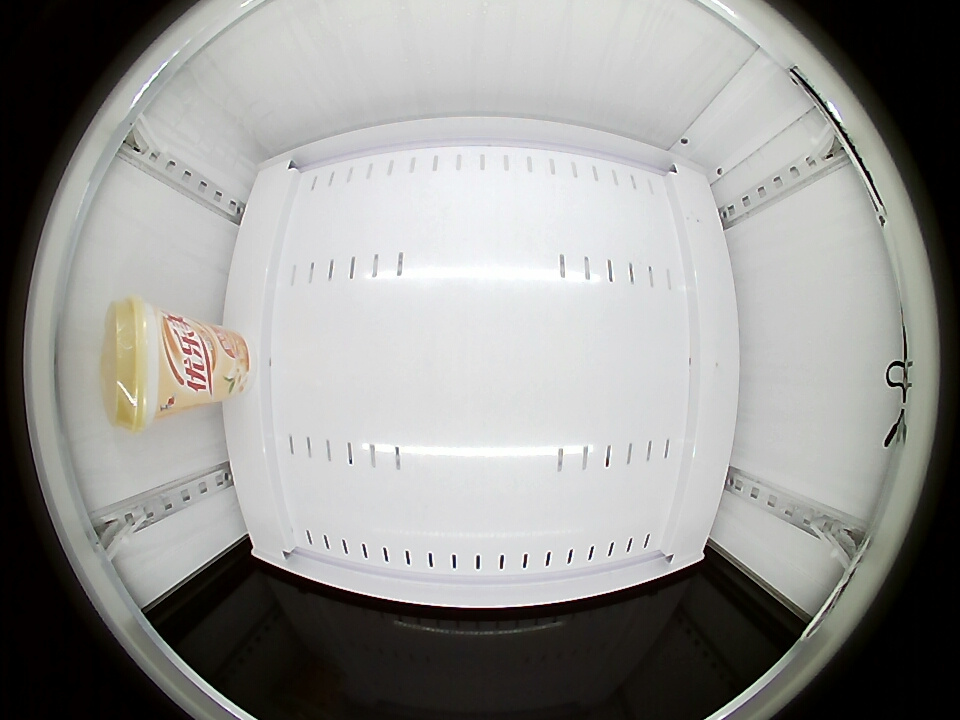youlemei: (102, 297, 173, 431)
